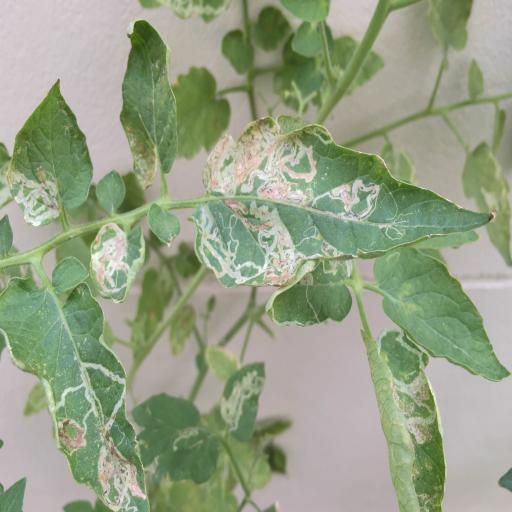disease_tomato: (190, 112, 498, 288), (0, 274, 152, 512), (374, 326, 448, 512), (6, 76, 96, 228), (91, 220, 145, 304)
